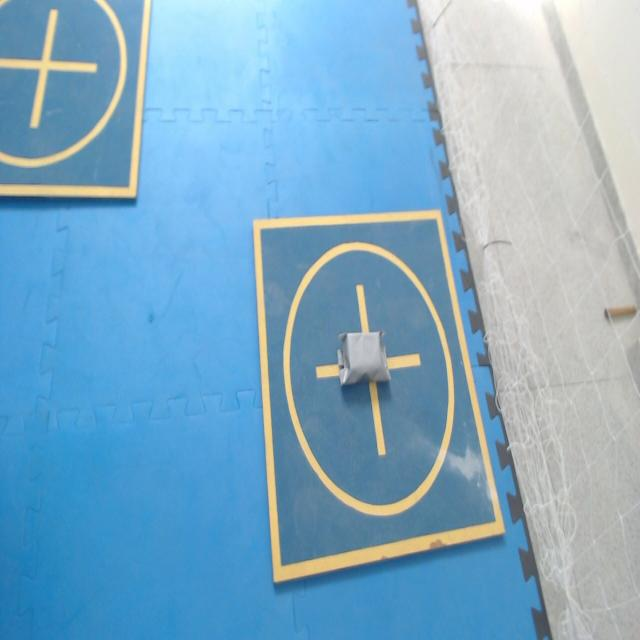horizontal: (338, 332, 390, 385)
